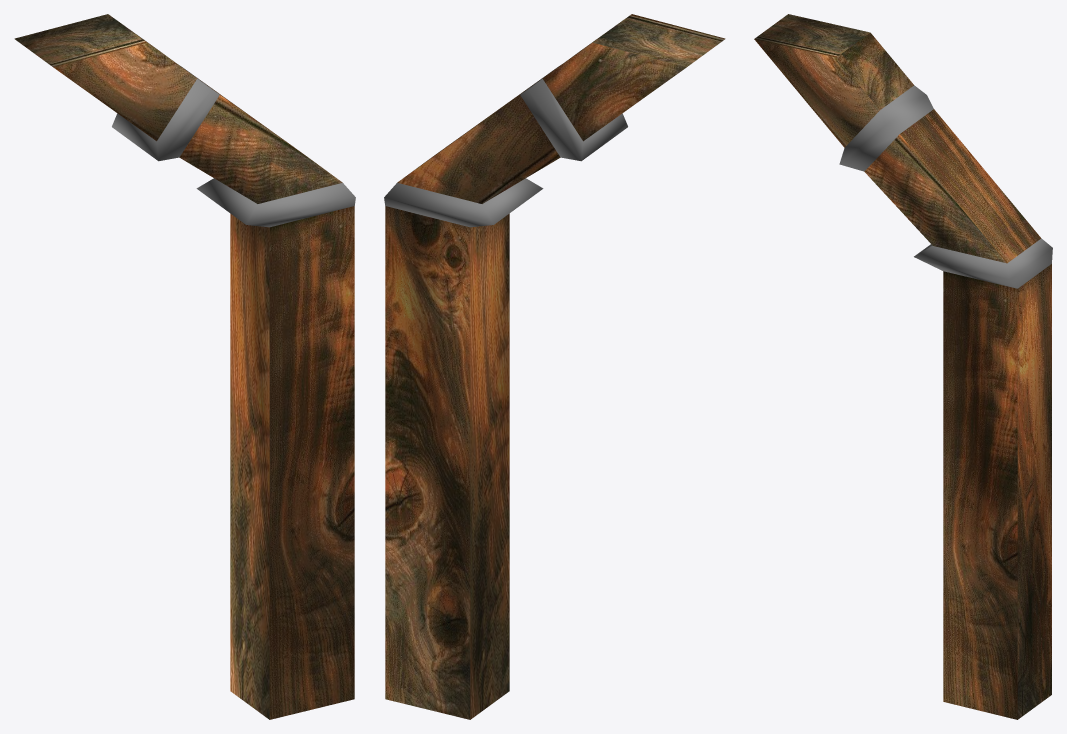
File: wood_pillar.glb
3 views of the same model, side by side, from view 1: azimuth 30°, elevation 25°; view 2: azimuth 150°, elevation 25°; view 3: azimuth 330°, elevation 25° (orthographic). The views are drawn at different scales.
Parts seen in each view (by area): view 1: Plane.007; view 2: Plane.007; view 3: Plane.007.
Boxes of the visible parts, x1,y1,x2,y2 form: Plane.007: [14, 14, 355, 719]; Plane.007: [384, 14, 725, 719]; Plane.007: [754, 14, 1052, 719].
Size of the model in its own units: 3.1 by 6.95 by 0.8859.
2 materials, 1 textured.
